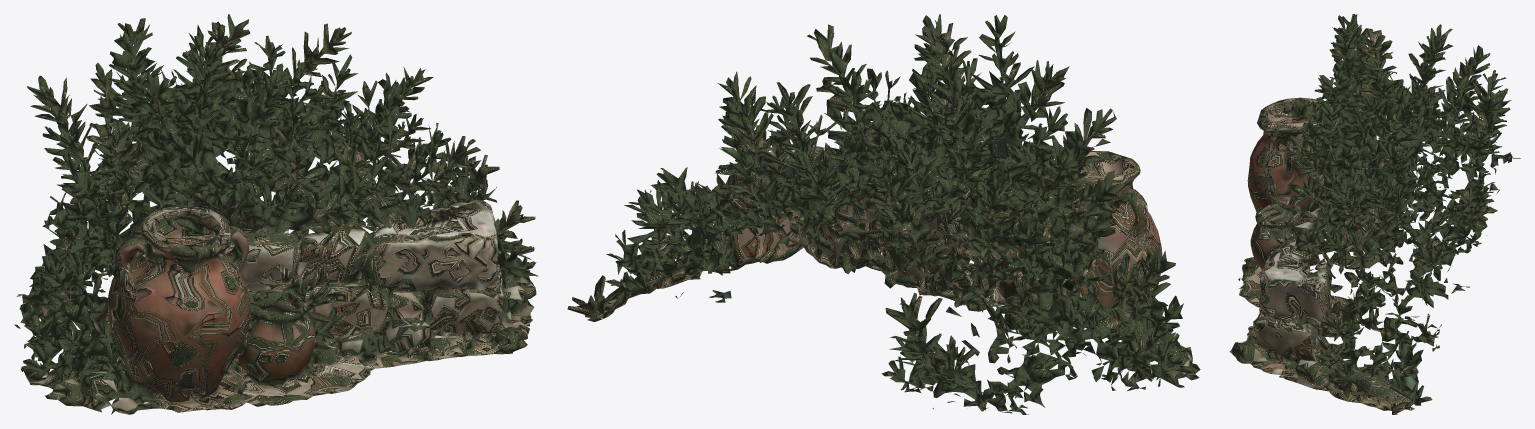
File: olive-wall-cluster-a.glb
3 renders of one model, left to right at view 1: azimuth 30°, elevation 25°; view 2: azimuth 150°, elevation 25°; view 3: azimuth 270°, elevation 25°, orthographic. The views are drawn at different scales.
Parts seen in each view (by area): view 1: geometry_0; view 2: geometry_0; view 3: geometry_0.
Part boxes in pixels (left/top/right/bottom): geometry_0: left=14, top=14, right=537, bottom=414; geometry_0: left=567, top=14, right=1200, bottom=414; geometry_0: left=1230, top=14, right=1520, bottom=414.
Bounding box in the file's own units: 2.14 × 1.25 × 1.26.
Materials: 1 (1 with a texture image).
